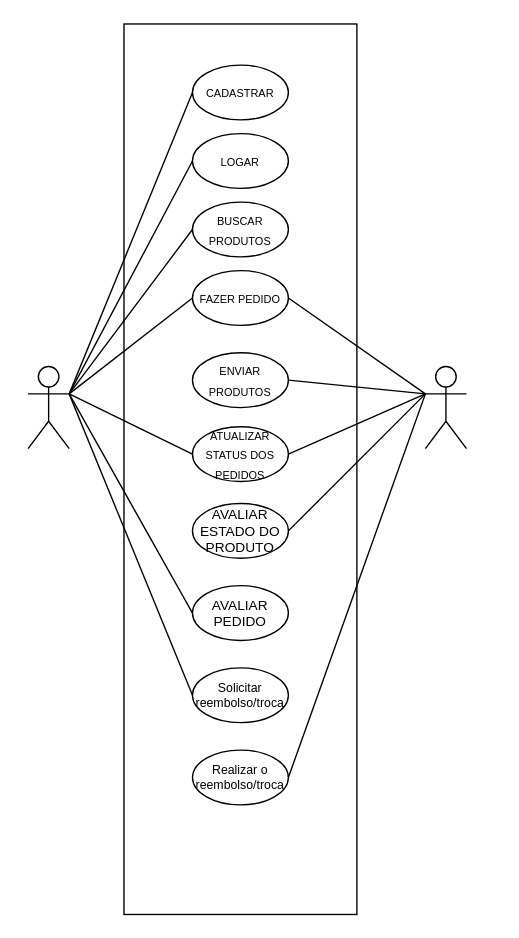
Some shapes in this 519 by 938 pixel diagram are drawn without their labels. Here are the shapes that lost their labels. From the top down, the centre of each, then its label:
pixel 48 407: Cliente
pixel 445 407: LIVRO FACIL
